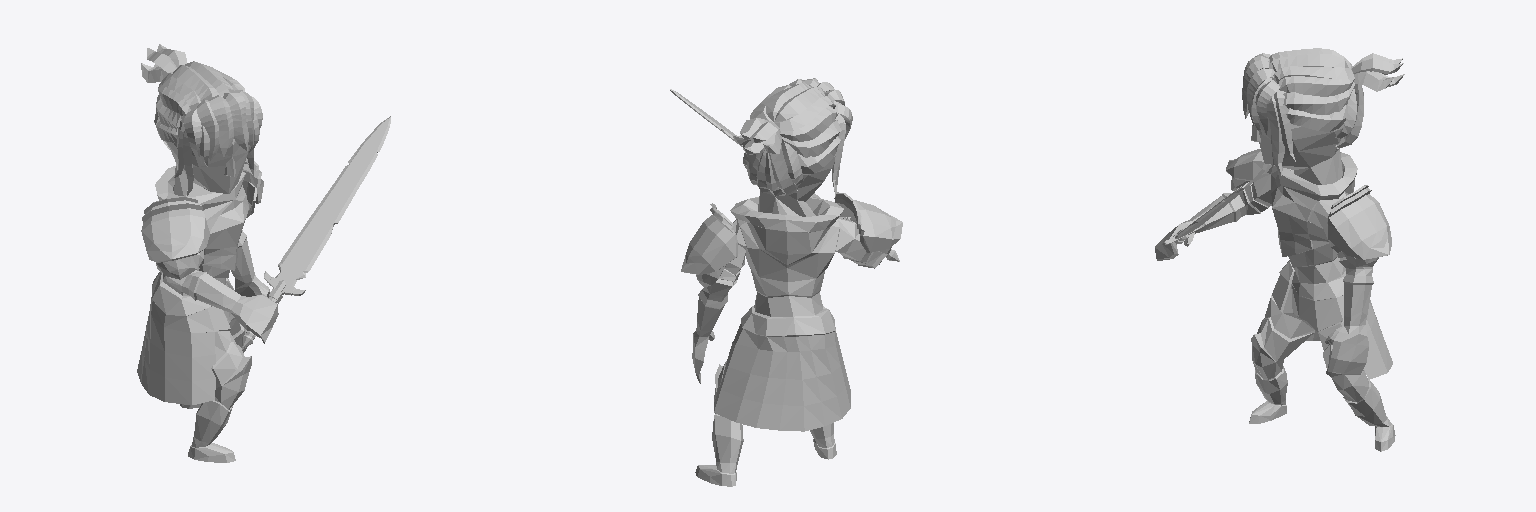
3 views of the same model, side by side, from view 1: azimuth 30°, elevation 25°; view 2: azimuth 150°, elevation 25°; view 3: azimuth 270°, elevation 25° (orthographic).
Parts seen in each view (by area): view 1: Warrior.002__ncl1_29.005, Face__ncl1_29.002, Warrior_Sword_Cylinder.001, Shoulder.R__ncl1_29.001, Shoulder.L__ncl1_29.000; view 2: Warrior.002__ncl1_29.005, Face__ncl1_29.002, Shoulder.L__ncl1_29.000, Shoulder.R__ncl1_29.001, Warrior_Sword_Cylinder.001; view 3: Warrior.002__ncl1_29.005, Face__ncl1_29.002, Shoulder.L__ncl1_29.000, Shoulder.R__ncl1_29.001, Warrior_Sword_Cylinder.001.
Part boxes in pixels (bbox=[...]): Warrior.002__ncl1_29.005: bbox=[137, 116, 278, 462]; Face__ncl1_29.002: bbox=[141, 44, 262, 195]; Warrior_Sword_Cylinder.001: bbox=[242, 116, 390, 347]; Shoulder.R__ncl1_29.001: bbox=[141, 196, 209, 279]; Shoulder.L__ncl1_29.000: bbox=[242, 158, 263, 217]; Warrior.002__ncl1_29.005: bbox=[692, 154, 887, 486]; Face__ncl1_29.002: bbox=[733, 78, 852, 196]; Shoulder.L__ncl1_29.000: bbox=[681, 203, 737, 286]; Shoulder.R__ncl1_29.001: bbox=[834, 192, 902, 253]; Warrior_Sword_Cylinder.001: bbox=[670, 89, 899, 261]; Warrior.002__ncl1_29.005: bbox=[1155, 113, 1395, 451]; Face__ncl1_29.002: bbox=[1242, 48, 1404, 175]; Shoulder.L__ncl1_29.000: bbox=[1327, 185, 1391, 266]; Shoulder.R__ncl1_29.001: bbox=[1226, 149, 1271, 191]; Warrior_Sword_Cylinder.001: bbox=[1164, 187, 1243, 244].
Bounding box in the file's own units: 1.87 × 2.83 × 1.73.